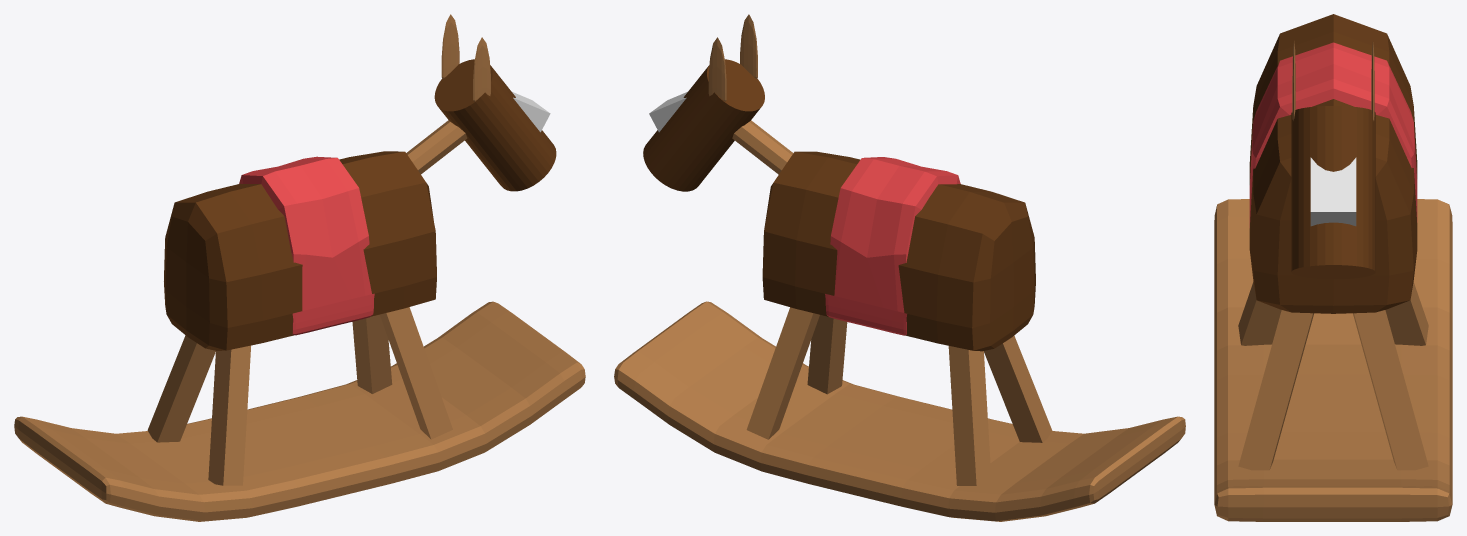
Rendered from HORSE.fbx.
3 views of the same model, side by side, from view 1: azimuth 30°, elevation 25°; view 2: azimuth 150°, elevation 25°; view 3: azimuth 270°, elevation 25° (orthographic). The views are drawn at different scales.
Visible parts, largest first — view 1: Cube, Cube.001, Cube.002, Cube.005, Cylinder.001, Cube.004, Cylinder; view 2: Cube, Cube.001, Cube.002, Cube.005, Cylinder.001, Cube.004, Cylinder; view 3: Cube, Cube.001, Cube.002, Cylinder.001, Cube.005, Cube.003, Cube.004.
Boxes of the visible parts, x1=… form: Cube: x1=14, y1=301, x2=585, y2=521; Cube.001: x1=164, y1=151, x2=436, y2=350; Cube.002: x1=147, y1=307, x2=452, y2=485; Cube.005: x1=239, y1=156, x2=374, y2=335; Cylinder.001: x1=434, y1=59, x2=556, y2=191; Cube.004: x1=441, y1=14, x2=490, y2=101; Cylinder: x1=406, y1=120, x2=467, y2=174; Cube: x1=614, y1=301, x2=1185, y2=521; Cube.001: x1=762, y1=151, x2=1035, y2=351; Cube.002: x1=746, y1=307, x2=1052, y2=485; Cube.005: x1=825, y1=157, x2=960, y2=335; Cylinder.001: x1=643, y1=59, x2=764, y2=191; Cube.004: x1=708, y1=14, x2=757, y2=101; Cylinder: x1=732, y1=120, x2=793, y2=174; Cube: x1=1214, y1=199, x2=1452, y2=521; Cube.001: x1=1249, y1=14, x2=1417, y2=313; Cube.002: x1=1238, y1=281, x2=1428, y2=470; Cylinder.001: x1=1291, y1=106, x2=1375, y2=279; Cube.005: x1=1249, y1=42, x2=1417, y2=227; Cube.003: x1=1310, y1=157, x2=1356, y2=226; Cube.004: x1=1292, y1=41, x2=1374, y2=120.
Size of the model in its own units: 429 by 333 by 143.
